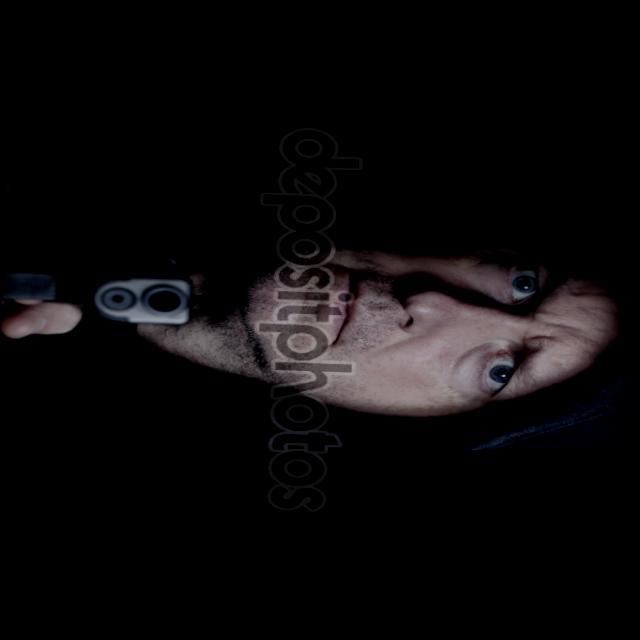handgun: (5, 228, 185, 346)
